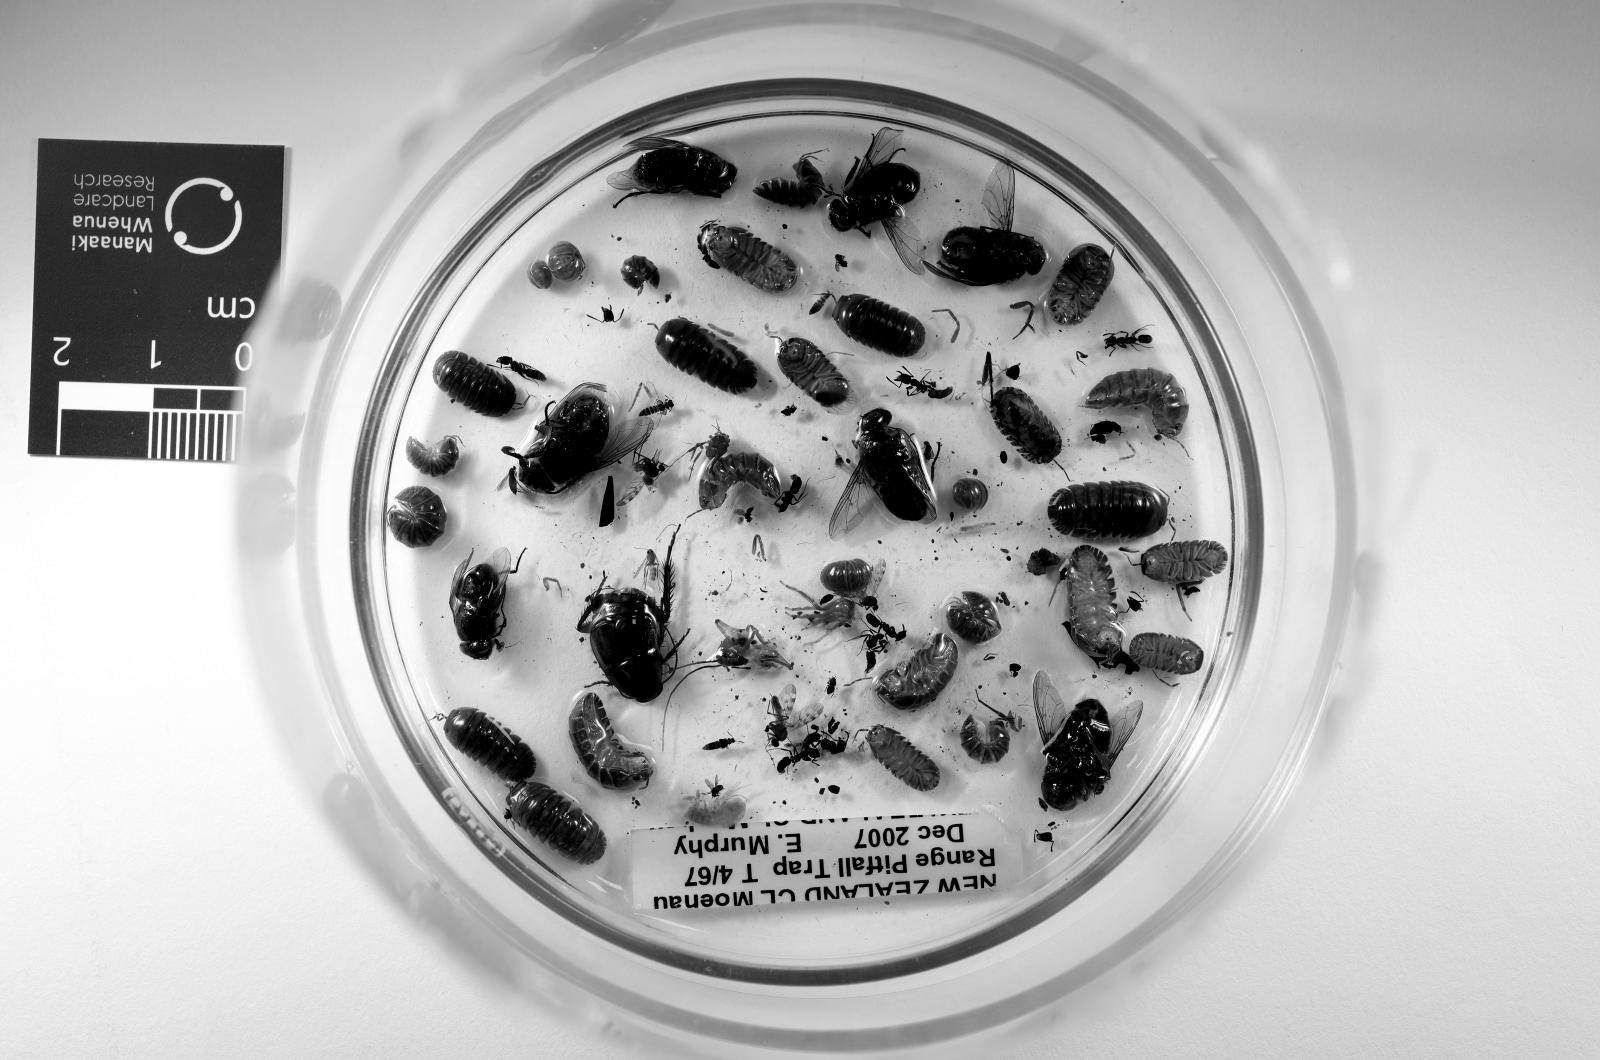amphipoda: (684, 789, 747, 829)
blattodea: (578, 565, 681, 702)
coleoptera: (1091, 419, 1122, 438), (703, 736, 734, 752)
diptera: (503, 382, 656, 497), (1031, 671, 1144, 811), (925, 161, 1047, 286), (828, 410, 938, 540), (828, 127, 925, 273), (609, 137, 738, 199), (450, 550, 512, 658), (766, 683, 822, 748), (616, 450, 666, 506), (853, 559, 888, 609), (634, 550, 659, 587), (638, 398, 675, 416), (497, 469, 519, 494), (706, 776, 725, 798), (734, 506, 753, 522), (825, 677, 838, 696), (834, 255, 847, 270)
formicidae: (891, 370, 953, 401), (497, 357, 547, 382), (803, 730, 847, 755), (1103, 329, 1153, 351), (862, 634, 888, 674), (775, 475, 803, 512), (778, 748, 819, 773), (866, 615, 906, 640)
isopoda: (569, 693, 653, 789), (506, 783, 606, 863), (656, 317, 759, 394), (1047, 481, 1169, 540), (1084, 370, 1188, 438), (444, 708, 538, 783), (1062, 547, 1122, 661), (875, 634, 956, 711), (709, 227, 797, 292), (834, 295, 925, 357), (1047, 245, 1116, 326), (434, 351, 516, 419), (991, 388, 1062, 463), (775, 338, 850, 407), (866, 727, 941, 792), (697, 453, 784, 509), (753, 152, 825, 208), (1141, 540, 1228, 584), (388, 484, 447, 547), (1128, 634, 1203, 674), (944, 593, 1000, 643), (959, 714, 1009, 764), (406, 435, 459, 475), (822, 559, 872, 596), (547, 242, 584, 283), (622, 255, 659, 295), (528, 261, 553, 289)
opiliones: (688, 425, 731, 469)
orthoptera: (697, 621, 794, 668)
